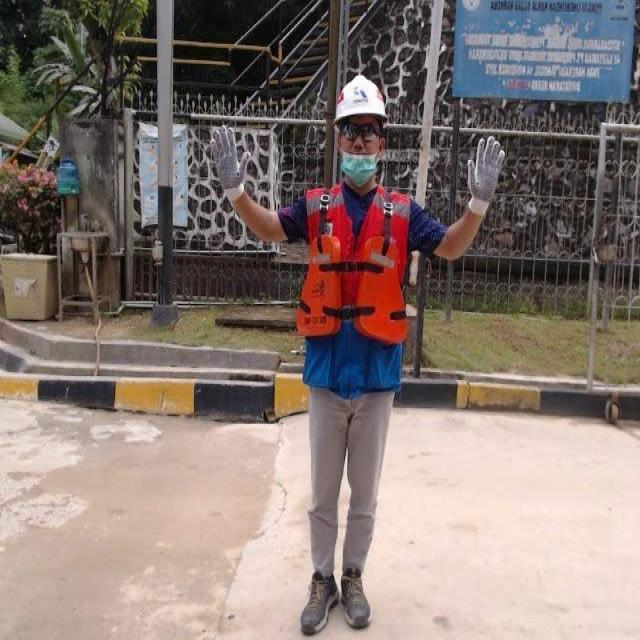helmet: (320, 68, 400, 130)
jacket: (292, 186, 428, 360)
